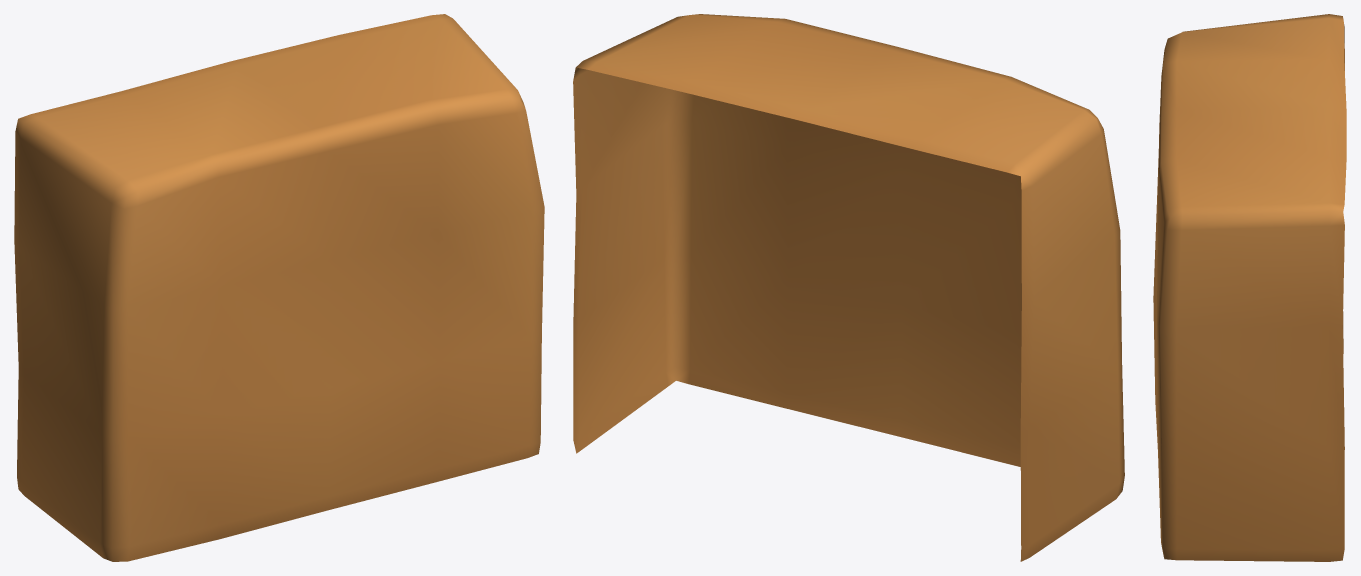
The model's file is block_a.glb.
3 renders of one model, left to right at view 1: azimuth 30°, elevation 25°; view 2: azimuth 150°, elevation 25°; view 3: azimuth 270°, elevation 25°, orthographic. The views are drawn at different scales.
Visible parts, largest first — view 1: block_a; view 2: block_a; view 3: block_a.
Part boxes in pixels (x1,y1,x2,y2): block_a: (14, 14, 544, 561); block_a: (573, 14, 1124, 561); block_a: (1153, 14, 1346, 561).
Size of the model in its own units: 0.9068 by 0.7521 by 0.3672.
